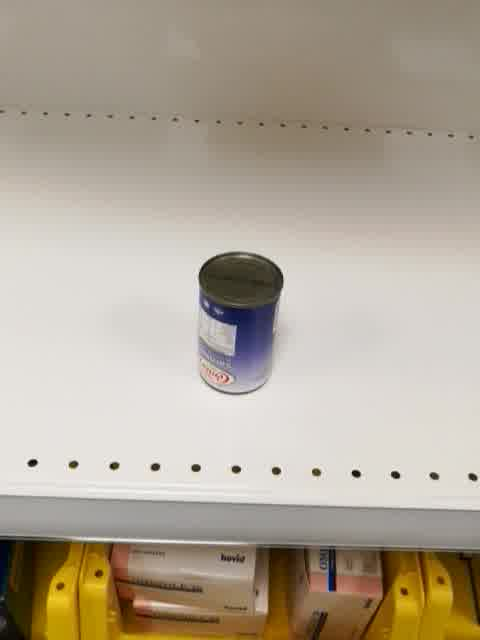sardine: (196, 250, 284, 395)
